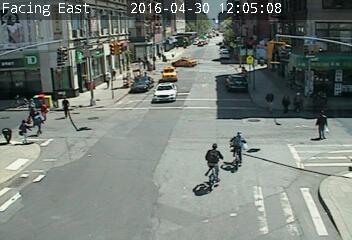neg: (191, 137, 234, 194), (221, 127, 255, 172), (328, 70, 347, 95), (1, 125, 16, 147), (241, 95, 256, 115), (84, 77, 96, 93), (288, 69, 300, 84), (163, 64, 174, 79), (123, 73, 133, 87), (316, 93, 326, 107), (126, 49, 136, 62), (219, 46, 229, 58), (239, 66, 248, 78), (179, 55, 188, 67), (142, 68, 150, 79), (88, 111, 96, 122), (169, 51, 176, 60), (259, 58, 265, 66)
pos: (310, 110, 334, 142), (290, 90, 308, 113), (262, 88, 279, 111), (15, 119, 32, 142), (57, 95, 74, 117), (31, 113, 47, 134), (279, 95, 292, 112), (38, 102, 50, 118), (26, 106, 38, 122), (102, 73, 113, 87), (110, 68, 119, 80)
